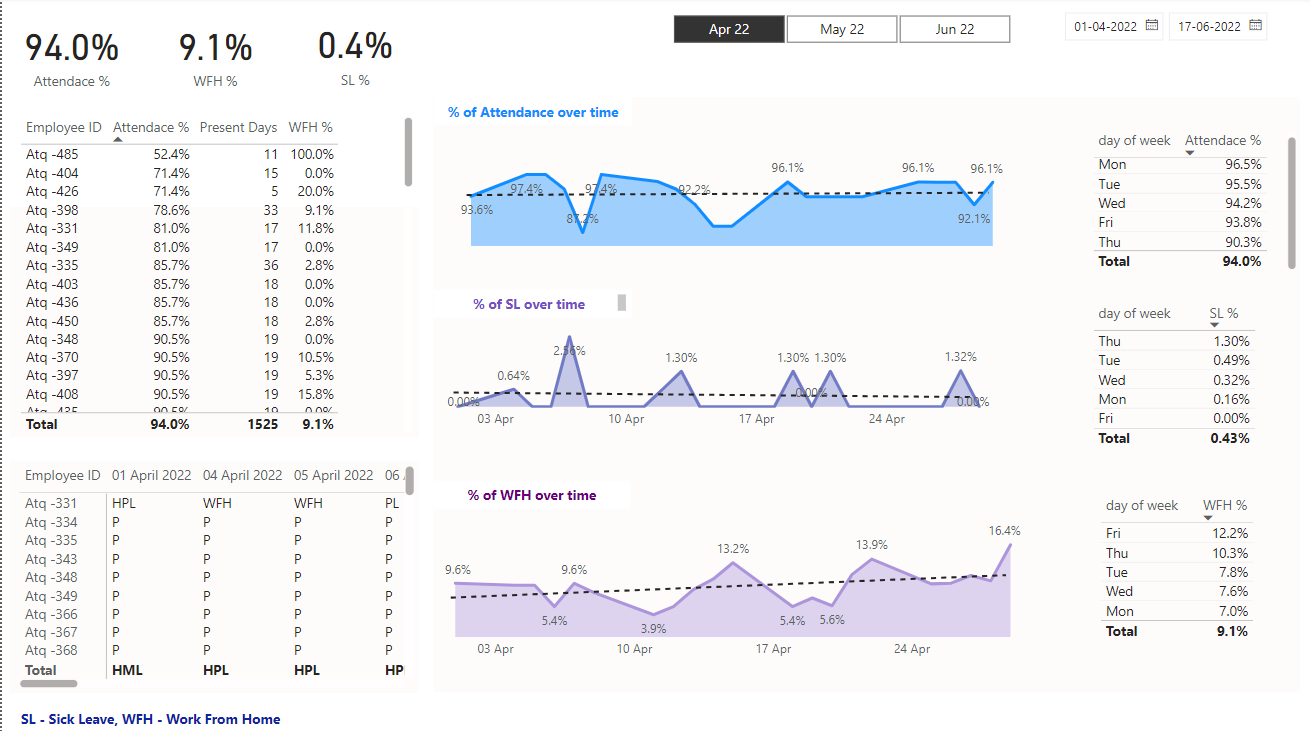

Layout of this report page (visuals, bound fields, positions):
{"tool":"powerbi","page":{"name":"Presence Insights","canvas":[1280,720],"ordinal":0},"visuals":[{"type":"textbox","box":[7.8,205.6,399.9,225.5],"z":0},{"type":"textbox","box":[7.8,453.3,399.8,227.6],"z":1000},{"type":"textbox","box":[422.3,97.9,848.1,582.3],"z":2000},{"type":"tableEx","fields":{"Values":["Final Data.Employee ID","Measures (2).Attendace %","Measures (2).Present Days","Measures (2).WFH %"]},"box":[12.2,112.5,394.8,317.8],"z":4000},{"type":"slicer","fields":{"Values":["Final Data.Date"]},"box":[1027.3,5.2,252.7,46.3],"z":5000},{"type":"slicer","fields":{"Values":["Final Data.MMM YY"]},"box":[630.4,10.5,379.5,35.8],"z":6000},{"type":"areaChart","fields":{"Category":["Final Data.MMM YY","Final Data.Date"],"Y":["Measures (2).WFH %"]},"box":[420.7,502.3,589,153.5],"z":7000},{"type":"areaChart","fields":{"Category":["Final Data.WeekNo","Final Data.Date"],"Y":["Measures (2).Attendace %"]},"box":[444.1,144.9,540.4,103.2],"z":8000},{"type":"card","fields":{"Values":["Measures (2).Attendace %"]},"box":[6.1,5.8,124,96.3],"z":9000,"group":"g1"},{"type":"card","fields":{"Values":["Measures (2).WFH %"]},"box":[139.7,5.8,138.8,96.3],"z":10000,"group":"g1"},{"type":"areaChart","fields":{"Category":["Final Data.MMM YY","Final Data.Date"],"Y":["Measures (2).SL %"]},"box":[422.5,307.1,556,124],"z":11000},{"type":"card","fields":{"Values":["Measures (2).SL %"]},"box":[284.6,4.9,121.4,96.3],"z":13000,"group":"g1"},{"type":"textbox","box":[422.4,98.2,192.5,27.5],"z":15000},{"type":"textbox","box":[422.5,286.3,192.6,26.9],"z":16000},{"type":"textbox","box":[422.1,473.7,192.6,27.2],"z":17000},{"type":"pivotTable","fields":{"Rows":["Final Data.Employee ID"],"Columns":["Final Data.Date"],"Values":["Min(Final Data.Value)"]},"box":[11.7,453.3,395.9,227.6],"z":18000},{"type":"textbox","box":[13.6,691.6,289.8,28.2],"z":19000},{"type":"tableEx","fields":{"Values":["Final Data.day of week","Measures (2).Attendace %"]},"box":[1060.9,125.8,209.9,145.7],"z":20000},{"type":"tableEx","fields":{"Values":["Final Data.day of week","Measures (2).SL %"]},"box":[1060.9,294.1,191.7,167.4],"z":21000},{"type":"tableEx","fields":{"Values":["Final Data.day of week","Measures (2).WFH %"]},"box":[1068.7,483.2,170,167.4],"z":22000},{"type":"group","id":"g1","title":"Group 1","box":[6.1,4.9,401,97.8],"z":22001}]}

Visuals, with their boxes in screenshot pixels (x1, y1, x2, y2), scaled from the page's 1280x720 canvas onto the 1310x731 screenshot:
textbox: {"left": 8, "top": 209, "right": 417, "bottom": 438}
textbox: {"left": 8, "top": 460, "right": 417, "bottom": 691}
textbox: {"left": 432, "top": 99, "right": 1300, "bottom": 691}
tableEx - Final Data.Employee ID x Measures (2).Attendace %: {"left": 12, "top": 114, "right": 417, "bottom": 437}
slicer - Final Data.Date: {"left": 1051, "top": 5, "right": 1309, "bottom": 52}
slicer - Final Data.MMM YY: {"left": 645, "top": 11, "right": 1034, "bottom": 47}
areaChart - Final Data.MMM YY x Final Data.Date: {"left": 431, "top": 510, "right": 1033, "bottom": 666}
areaChart - Final Data.WeekNo x Final Data.Date: {"left": 455, "top": 147, "right": 1008, "bottom": 252}
card - Measures (2).Attendace %: {"left": 6, "top": 6, "right": 133, "bottom": 104}
card - Measures (2).WFH %: {"left": 143, "top": 6, "right": 285, "bottom": 104}
areaChart - Final Data.MMM YY x Final Data.Date: {"left": 432, "top": 312, "right": 1001, "bottom": 438}
card - Measures (2).SL %: {"left": 291, "top": 5, "right": 416, "bottom": 103}
textbox: {"left": 432, "top": 100, "right": 629, "bottom": 128}
textbox: {"left": 432, "top": 291, "right": 630, "bottom": 318}
textbox: {"left": 432, "top": 481, "right": 629, "bottom": 509}
pivotTable - Final Data.Employee ID x Final Data.Date: {"left": 12, "top": 460, "right": 417, "bottom": 691}
textbox: {"left": 14, "top": 702, "right": 311, "bottom": 730}
tableEx - Final Data.day of week x Measures (2).Attendace %: {"left": 1086, "top": 128, "right": 1301, "bottom": 276}
tableEx - Final Data.day of week x Measures (2).SL %: {"left": 1086, "top": 299, "right": 1282, "bottom": 469}
tableEx - Final Data.day of week x Measures (2).WFH %: {"left": 1094, "top": 491, "right": 1268, "bottom": 661}
"Group 1" group: {"left": 6, "top": 5, "right": 417, "bottom": 104}
